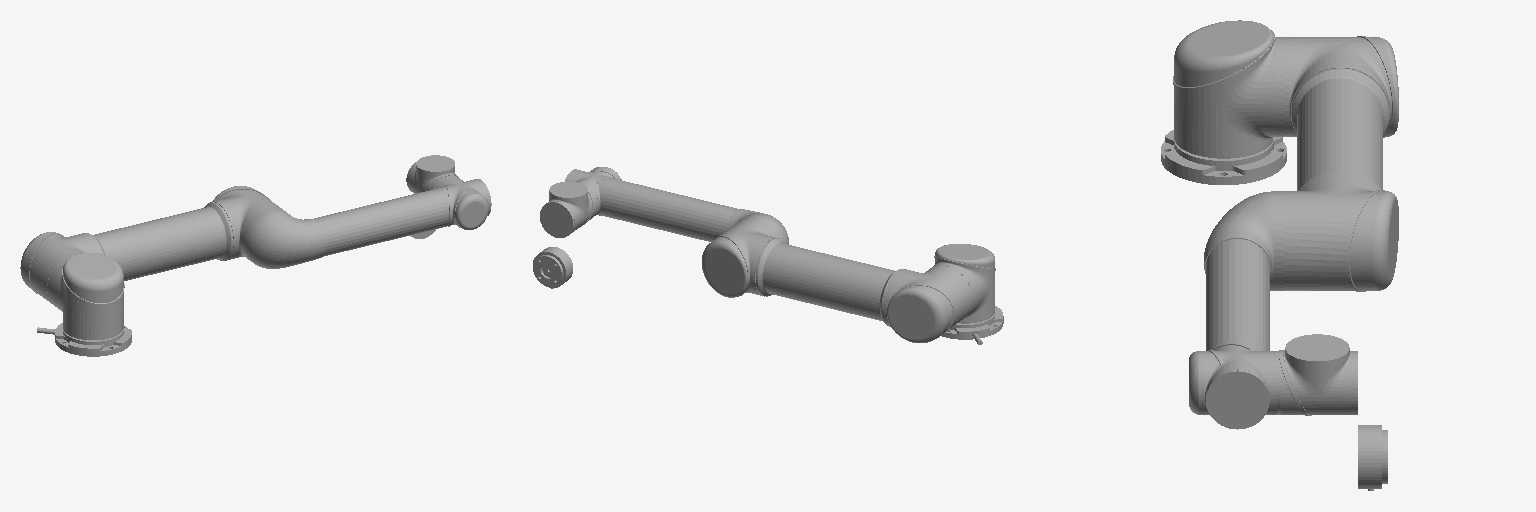
The robot description file, URDF, robot "ur5":
<?xml version="1.0" ?>
<!-- =================================================================================== -->
<!-- |    This document was autogenerated by xacro from ur5_robot.urdf.xacro           | -->
<!-- |    EDITING THIS FILE BY HAND IS NOT RECOMMENDED                                 | -->
<!-- =================================================================================== -->
<robot name="ur5" xmlns:xacro="http://www.ros.org/wiki/xacro">
	<!-- ur5 -->
  <!-- arm -->
  <link name="base_link">
    <visual>
      <geometry>
        <mesh filename="meshes/visual/Base.dae"/>
      </geometry>
      <material name="LightGrey">
        <color rgba="0.7 0.7 0.7 1.0"/>
      </material>
    </visual>
    <collision>
      <geometry>
        <mesh filename="meshes/visual/base.dae"/>
      </geometry>
    </collision>
    <inertial>
      <mass value="4.0"/>
      <origin rpy="0 0 0" xyz="0.0 0.0 0.0"/>
      <inertia ixx="0.00443333156" ixy="0.0" ixz="0.0" iyy="0.00443333156" iyz="0.0" izz="0.0072"/>
    </inertial>
  </link>
  <joint name="shoulder_pan_joint" type="revolute">
    <parent link="base_link"/>
    <child link="shoulder_link"/>
    <origin rpy="0.0 0.0 0.0" xyz="0.0 0.0 0.089159"/>
    <axis xyz="0 0 1"/>
    <limit effort="150.0" lower="-6.2831853" upper="6.2831853" velocity="3.15"/>
    <dynamics damping="0.0" friction="0.0"/>
  </joint>
  <link name="shoulder_link">
    <visual>
      <geometry>
        <mesh filename="meshes/visual/Shoulder.dae"/>
      </geometry>
      <material name="LightGrey">
        <color rgba="0.7 0.7 0.7 1.0"/>
      </material>
    </visual>
    <collision>
      <geometry>
        <mesh filename="meshes/visual/shoulder.dae"/>
      </geometry>
    </collision>
    <inertial>
      <mass value="3.7"/>
      <origin rpy="0 0 0" xyz="0.0 0.0 0.0"/>
      <inertia ixx="0.010267495893" ixy="0.0" ixz="0.0" iyy="0.010267495893" iyz="0.0" izz="0.00666"/>
    </inertial>
  </link>
  <joint name="shoulder_lift_joint" type="revolute">
    <parent link="shoulder_link"/>
    <child link="upper_arm_link"/>
    <origin rpy="0.0 1.570796325 0.0" xyz="0.0 0.13585 0.0"/>
    <axis xyz="0 1 0"/>
    <limit effort="150.0" lower="-6.2831853" upper="6.2831853" velocity="3.15"/>
    <dynamics damping="0.0" friction="0.0"/>
  </joint>
  <link name="upper_arm_link">
    <visual>
      <geometry>
        <mesh filename="meshes/visual/UpperArm.dae"/>
      </geometry>
      <material name="LightGrey">
        <color rgba="0.7 0.7 0.7 1.0"/>
      </material>
    </visual>
    <collision>
      <geometry>
        <mesh filename="meshes/visual/UpperArm.dae"/>
      </geometry>
    </collision>
    <inertial>
      <mass value="8.393"/>
      <origin rpy="0 0 0" xyz="0.0 0.0 0.28"/>
      <inertia ixx="0.22689067591" ixy="0.0" ixz="0.0" iyy="0.22689067591" iyz="0.0" izz="0.0151074"/>
    </inertial>
  </link>
  <joint name="elbow_joint" type="revolute">
    <parent link="upper_arm_link"/>
    <child link="forearm_link"/>
    <origin rpy="0.0 0.0 0.0" xyz="0.0 -0.1197 0.425"/>
    <axis xyz="0 1 0"/>
    <limit effort="150.0" lower="-6.2831853" upper="6.2831853" velocity="3.15"/>
    <dynamics damping="0.0" friction="0.0"/>
  </joint>
  <link name="forearm_link">
    <visual>
      <geometry>
        <mesh filename="meshes/visual/Forearm.dae"/>
      </geometry>
      <material name="LightGrey">
        <color rgba="0.7 0.7 0.7 1.0"/>
      </material>
    </visual>
    <collision>
      <geometry>
        <mesh filename="meshes/visual/forearm.dae"/>
      </geometry>
    </collision>
    <inertial>
      <mass value="2.275"/>
      <origin rpy="0 0 0" xyz="0.0 0.0 0.25"/>
      <inertia ixx="0.049443313556" ixy="0.0" ixz="0.0" iyy="0.049443313556" iyz="0.0" izz="0.004095"/>
    </inertial>
  </link>
  <joint name="wrist_1_joint" type="revolute">
    <parent link="forearm_link"/>
    <child link="wrist_1_link"/>
    <origin rpy="0.0 1.570796325 0.0" xyz="0.0 0.0 0.39225"/>
    <axis xyz="0 1 0"/>
    <limit effort="28.0" lower="-6.2831853" upper="6.2831853" velocity="3.2"/>
    <dynamics damping="0.0" friction="0.0"/>
  </joint>
  <link name="wrist_1_link">
    <visual>
      <geometry>
        <mesh filename="meshes/visual/Wrist1.dae"/>
      </geometry>
      <material name="LightGrey">
        <color rgba="0.7 0.7 0.7 1.0"/>
      </material>
    </visual>
    <collision>
      <geometry>
        <mesh filename="meshes/visual/Wrist1.dae"/>
      </geometry>
    </collision>
    <inertial>
      <mass value="1.219"/>
      <origin rpy="0 0 0" xyz="0.0 0.0 0.0"/>
      <inertia ixx="0.111172755531" ixy="0.0" ixz="0.0" iyy="0.111172755531" iyz="0.0" izz="0.21942"/>
    </inertial>
  </link>
  <joint name="wrist_2_joint" type="revolute">
    <parent link="wrist_1_link"/>
    <child link="wrist_2_link"/>
    <origin rpy="0.0 0.0 0.0" xyz="0.0 0.093 0.0"/>
    <axis xyz="0 0 1"/>
    <limit effort="28.0" lower="-6.2831853" upper="6.2831853" velocity="3.2"/>
    <dynamics damping="0.0" friction="0.0"/>
  </joint>
  <link name="wrist_2_link">
    <visual>
      <geometry>
        <mesh filename="meshes/visual/Wrist2.dae"/>
      </geometry>
      <material name="LightGrey">
        <color rgba="0.7 0.7 0.7 1.0"/>
      </material>
    </visual>
    <collision>
      <geometry>
        <mesh filename="meshes/visual/Wrist2.dae"/>
      </geometry>
    </collision>
    <inertial>
      <mass value="1.219"/>
      <origin rpy="0 0 0" xyz="0.0 0.0 0.0"/>
      <inertia ixx="0.111172755531" ixy="0.0" ixz="0.0" iyy="0.111172755531" iyz="0.0" izz="0.21942"/>
    </inertial>
  </link>
  <joint name="wrist_3_joint" type="revolute">
    <parent link="wrist_2_link"/>
    <child link="wrist_3_link"/>
    <origin rpy="0.0 0.0 0.0" xyz="0.0 0.0 0.09465"/>
    <axis xyz="0 1 0"/>
    <limit effort="28.0" lower="-6.2831853" upper="6.2831853" velocity="3.2"/>
    <dynamics damping="0.0" friction="0.0"/>
  </joint>
  <link name="wrist_3_link">
    <visual>
      <geometry>
        <mesh filename="meshes/visual/Wrist3.dae"/>
      </geometry>
      <material name="LightGrey">
        <color rgba="0.7 0.7 0.7 1.0"/>
      </material>
    </visual>
    <collision>
      <geometry>
        <mesh filename="meshes/visual/Wrist3.dae"/>
      </geometry>
    </collision>
    <inertial>
      <mass value="0.1879"/>
      <origin rpy="0 0 0" xyz="0.0 0.0 0.0"/>
      <inertia ixx="0.0171364731454" ixy="0.0" ixz="0.0" iyy="0.0171364731454" iyz="0.0" izz="0.033822"/>
    </inertial>
  </link>
  <joint name="ee_fixed_joint" type="fixed">
    <parent link="wrist_3_link"/>
    <child link="ee_link"/>
    <origin rpy="0.0 0.0 1.570796325" xyz="0.0 0.0823 0.0"/>
  </joint>
  <link name="ee_link">
    <collision>
      <geometry>
        <box size="0.01 0.01 0.01"/>
      </geometry>
      <origin rpy="0 0 0" xyz="-0.01 0 0"/>
    </collision>
  </link>





  <link name="world"/>
  <joint name="world_joint" type="fixed">
    <parent link="world"/>
    <child link="base_link"/>
    <origin rpy="0.0 0.0 0.0" xyz="0.0 0.0 0.0"/>
  </joint>
</robot>

--- Render facts (derived) ---
The picture shows the robot from 3 angles, left to right: view 1: azimuth 30°, elevation 25°; view 2: azimuth 150°, elevation 25°; view 3: azimuth 270°, elevation 25°; orthographic projection.
Robot: ur5 — 9 links, 8 joints (6 revolute, 2 fixed); root link world; default pose: all joints at 0.
Visible links, largest first — view 1: upper_arm_link, forearm_link, shoulder_link, base_link, wrist_2_link, wrist_1_link; view 2: upper_arm_link, forearm_link, shoulder_link, wrist_2_link, wrist_3_link, base_link, wrist_1_link; view 3: upper_arm_link, shoulder_link, forearm_link, wrist_2_link, wrist_1_link, base_link, wrist_3_link.
Link boxes in pixels (x1,y1,x2,y2): upper_arm_link: (20,186,282,306); forearm_link: (241,176,488,268); shoulder_link: (49,253,124,339); base_link: (37,323,131,356); wrist_2_link: (406,155,457,193); wrist_1_link: (437,179,491,226); upper_arm_link: (702,219,972,342); forearm_link: (576,167,788,244); shoulder_link: (933,244,995,323); wrist_2_link: (540,182,597,237); wrist_3_link: (533,247,572,288); base_link: (942,306,1003,344); wrist_1_link: (565,167,618,215); upper_arm_link: (1284,36,1398,291); shoulder_link: (1173,20,1283,158); forearm_link: (1189,191,1283,414); wrist_2_link: (1274,334,1357,415); wrist_1_link: (1199,338,1269,429); base_link: (1161,130,1286,184); wrist_3_link: (1358,425,1387,490).
Size in the robot's own frame: 0.9462 by 0.2779 by 0.2062 metres.
Meshes: 7 distinct files referenced, 7 mesh visuals loaded (7 Collada DAE).